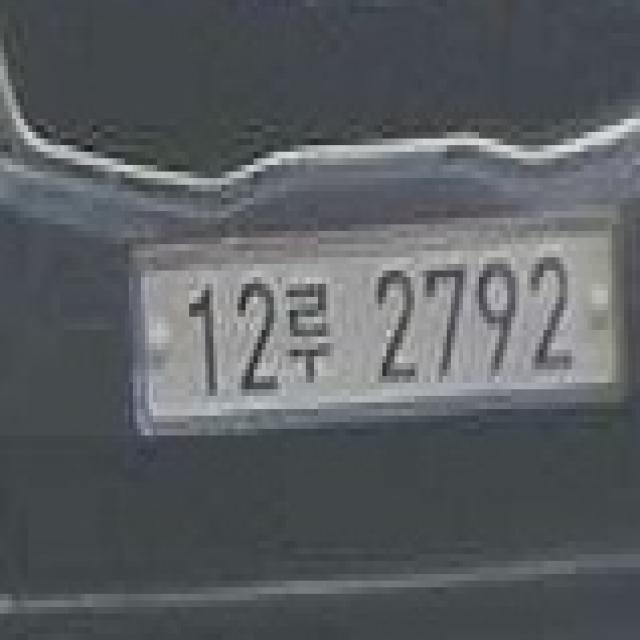1: (181, 271, 230, 409)
2: (523, 251, 580, 389), (233, 270, 282, 402), (374, 257, 419, 396)
7: (419, 264, 467, 396)
9: (471, 250, 519, 382)
license_plate: (121, 211, 632, 469)
lu: (278, 264, 342, 402)
